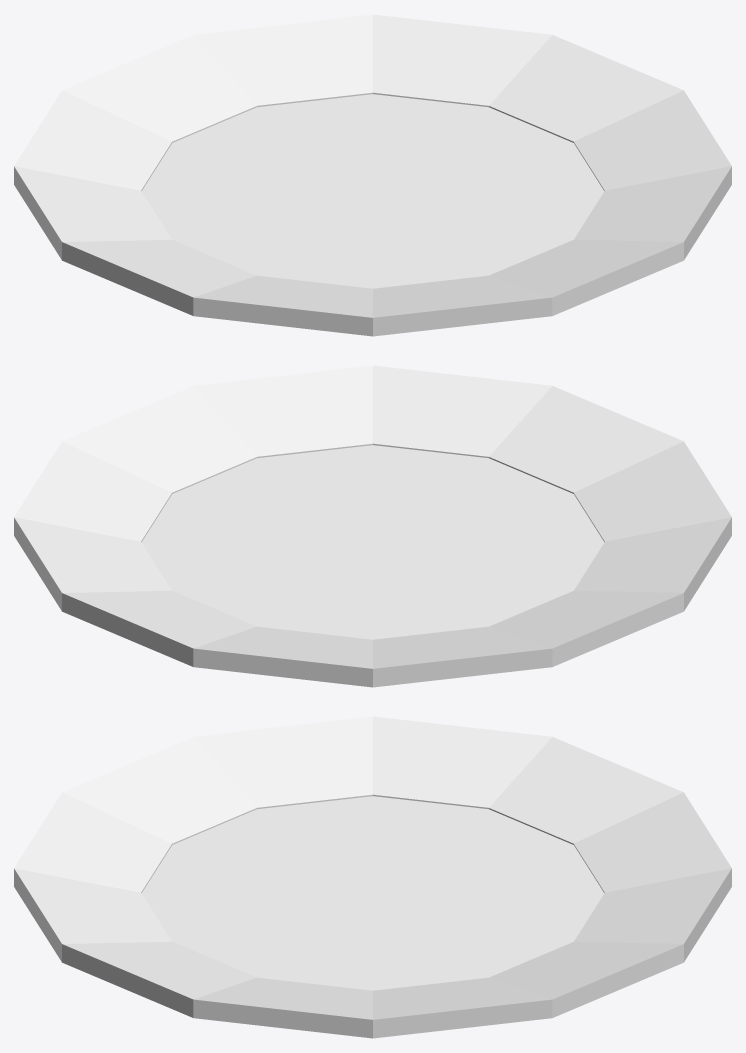
The model's file is Plate_02.fbx.
3 views of the same model, one above another, from view 1: azimuth 30°, elevation 25°; view 2: azimuth 150°, elevation 25°; view 3: azimuth 270°, elevation 25° (orthographic).
Visible parts, largest first — view 1: Plate_02; view 2: Plate_02; view 3: Plate_02.
Part boxes in pixels (<box>): Plate_02: <box>14,14,731,336</box>; Plate_02: <box>14,365,731,687</box>; Plate_02: <box>14,716,731,1038</box>.
Bounding box in the file's own units: 34.23 × 2.53 × 34.23.
